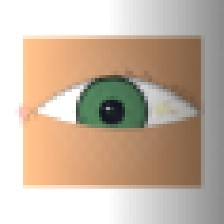pinguecula_lesion: (144, 94, 181, 124)
